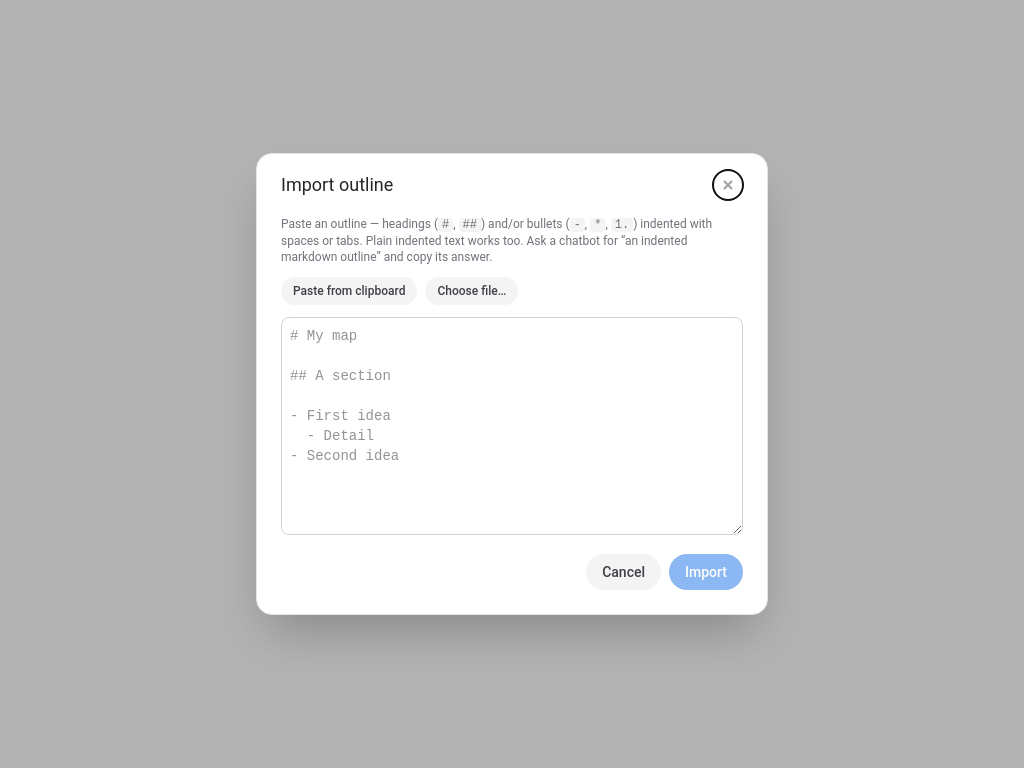
OutlineImportModal › keeps Import disabled while the text parses to nothing
Check: the button "Import" is disabled, box top-left (669, 554), bottom-right (743, 590)
In the text box: coordinates (512, 426) top-left (281, 317), bottom-right (743, 535), type "---"
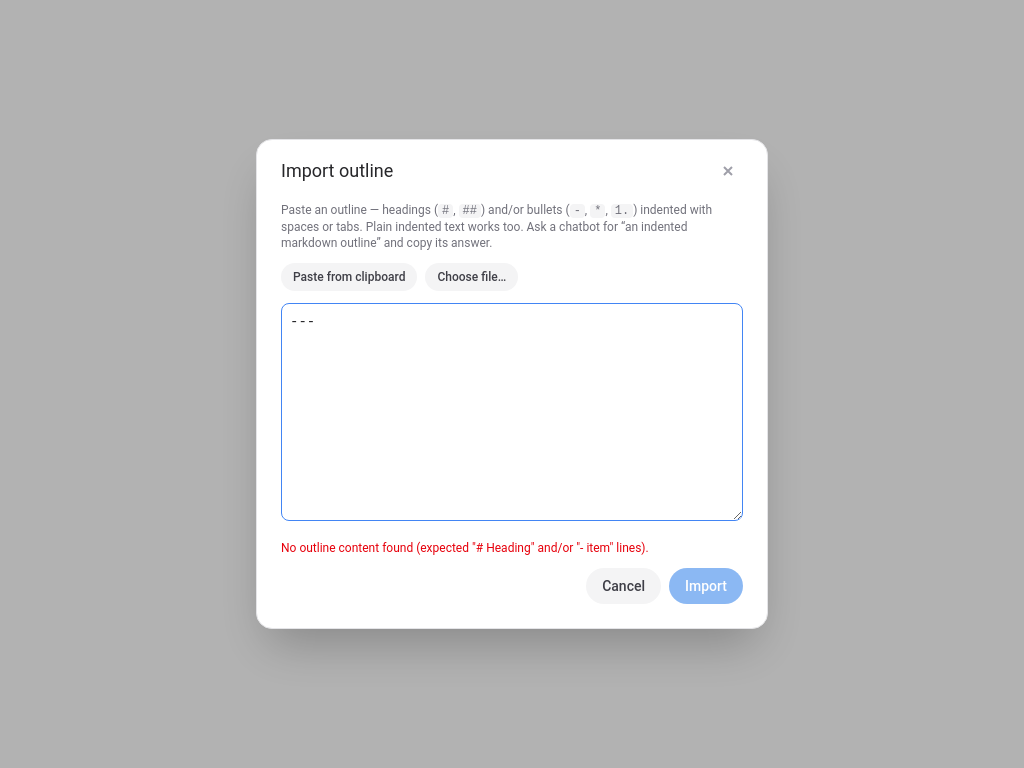
Check: the button "Import" is disabled, box top-left (669, 568), bottom-right (743, 604)
Check: the message shows "No outline content", box top-left (281, 541), bottom-right (649, 555)
